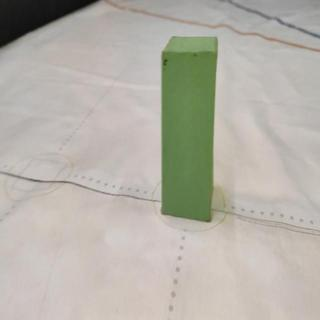greenbox: (161, 36, 218, 222)
